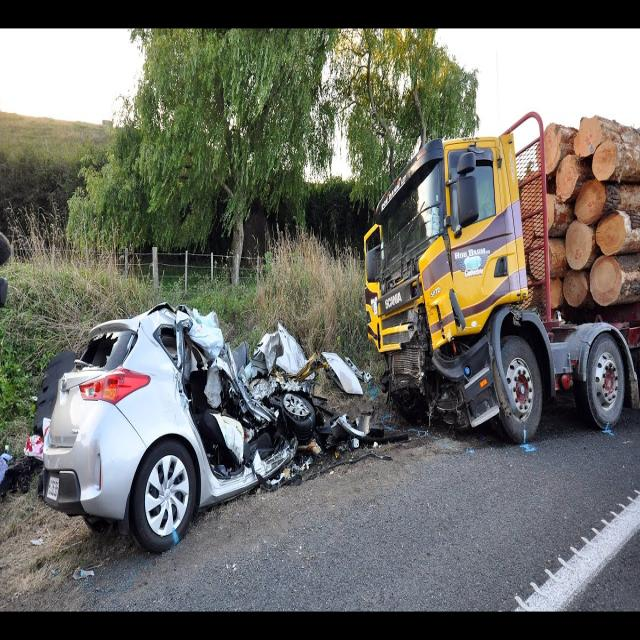crush: (69, 301, 367, 498), (380, 230, 523, 432)
